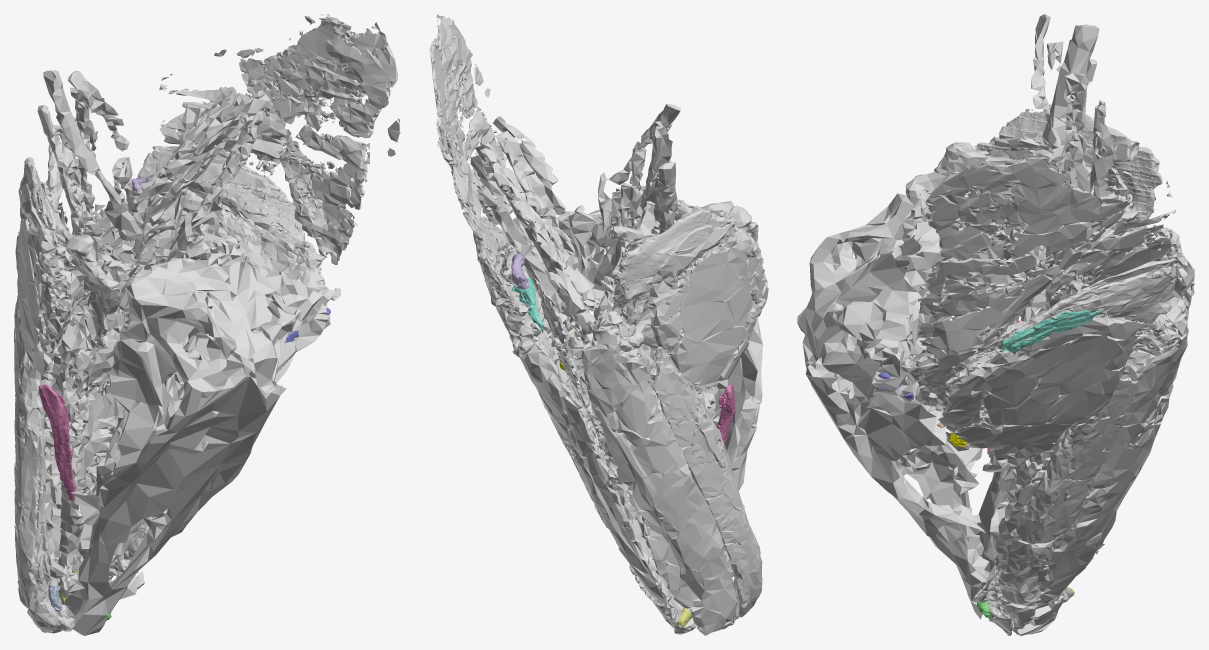
Rendered from mrhnb-ig-8630.glb.
3 renders of one model, left to right at view 1: azimuth 30°, elevation 25°; view 2: azimuth 150°, elevation 25°; view 3: azimuth 270°, elevation 25°, orthographic. The views are drawn at different scales.
Parts seen in each view (by area): view 1: braincase, opercle_partial, gill_skeleton, palate, upper_jaw, expanded_infraorbital, preopercle_l, hyomandibula_r, hyomandibula_l, ceratohyals, lower_jaw, anterior_infraorbital (+1 smaller); view 2: lower_jaw, gill_skeleton, expanded_infraorbital, upper_jaw, opercle_partial, braincase, preopercle_r, ceratohyals, quadrate, preopercle_l, hyomandibula_r, anterior_infraorbital (+3 smaller); view 3: braincase, opercle_partial, expanded_infraorbital, lower_jaw, upper_jaw, gill_skeleton, preopercle_l, palate, preopercle_r, hyomandibula_r, hyomandibula_l, quadrate (+2 smaller).
Part boxes in pixels (x1=…): braincase: x1=61, y1=196, x2=340, y2=635; opercle_partial: x1=159, y1=14, x2=400, y2=264; gill_skeleton: x1=37, y1=70, x2=270, y2=491; palate: x1=49, y1=202, x2=227, y2=597; upper_jaw: x1=14, y1=295, x2=149, y2=633; expanded_infraorbital: x1=15, y1=182, x2=321, y2=374; preopercle_l: x1=127, y1=146, x2=321, y2=270; hyomandibula_r: x1=46, y1=144, x2=325, y2=348; hyomandibula_l: x1=163, y1=189, x2=325, y2=287; ceratohyals: x1=49, y1=204, x2=161, y2=508; lower_jaw: x1=16, y1=251, x2=130, y2=632; anterior_infraorbital: x1=38, y1=384, x2=76, y2=501; lower_jaw: x1=509, y1=309, x2=737, y2=635; gill_skeleton: x1=470, y1=104, x2=680, y2=362; expanded_infraorbital: x1=482, y1=226, x2=768, y2=392; upper_jaw: x1=536, y1=338, x2=762, y2=617; opercle_partial: x1=429, y1=14, x2=510, y2=246; braincase: x1=554, y1=172, x2=762, y2=551; preopercle_r: x1=610, y1=209, x2=748, y2=308; ceratohyals: x1=536, y1=281, x2=654, y2=539; quadrate: x1=499, y1=282, x2=658, y2=362; preopercle_l: x1=473, y1=216, x2=515, y2=311; hyomandibula_r: x1=502, y1=205, x2=758, y2=311; anterior_infraorbital: x1=717, y1=384, x2=735, y2=446; braincase: x1=797, y1=193, x2=1019, y2=619; opercle_partial: x1=895, y1=154, x2=1175, y2=371; expanded_infraorbital: x1=938, y1=131, x2=1137, y2=472; lower_jaw: x1=994, y1=225, x2=1194, y2=635; upper_jaw: x1=997, y1=362, x2=1140, y2=628; gill_skeleton: x1=1024, y1=14, x2=1138, y2=313; preopercle_l: x1=946, y1=258, x2=1176, y2=385; palate: x1=977, y1=173, x2=1093, y2=602; preopercle_r: x1=974, y1=104, x2=1162, y2=227; hyomandibula_r: x1=901, y1=140, x2=1139, y2=411; hyomandibula_l: x1=901, y1=311, x2=1106, y2=432; quadrate: x1=1093, y1=167, x2=1179, y2=352.
Size of the model in its own units: 58.31 by 89.55 by 51.53.
